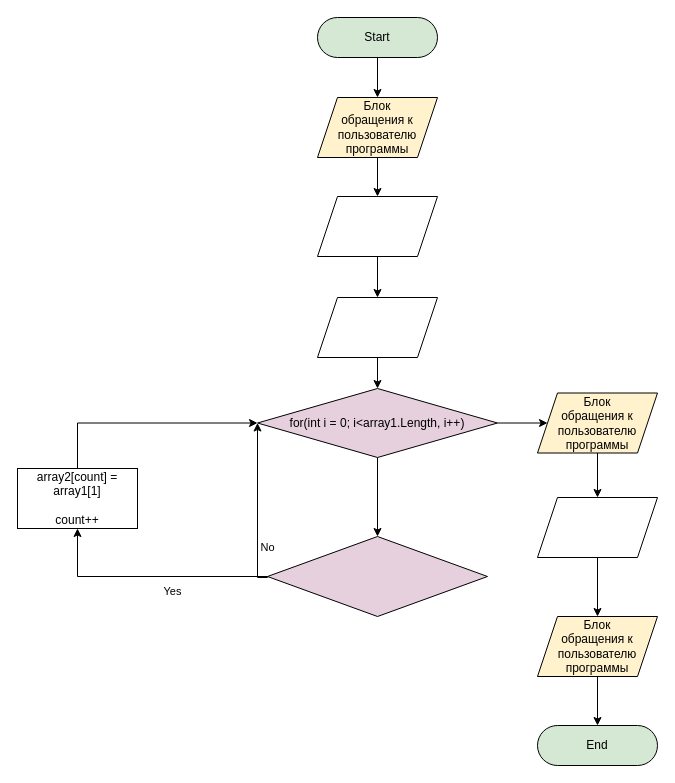
Image size: 675x783. Some labels were removed from this diagram. The shapes that lost their labels are listed below. From the top down, each one's centre as x and y in pixels, then its label:
At (x=377, y=226): "Запуск метода SecondArray".
At (x=377, y=327): "string[] array1 string[] array2 int count = 0".
At (x=597, y=527): "Print array2".
At (x=377, y=576): "if (array1[i].Lenght <= 3)".
